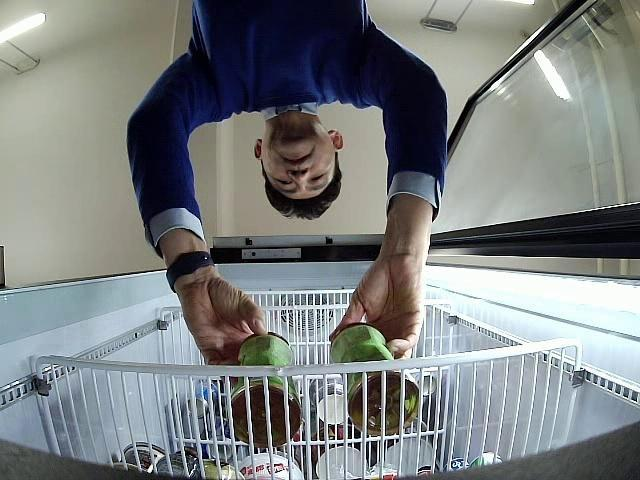19_17cha: (332, 323, 418, 438), (230, 332, 304, 446)
